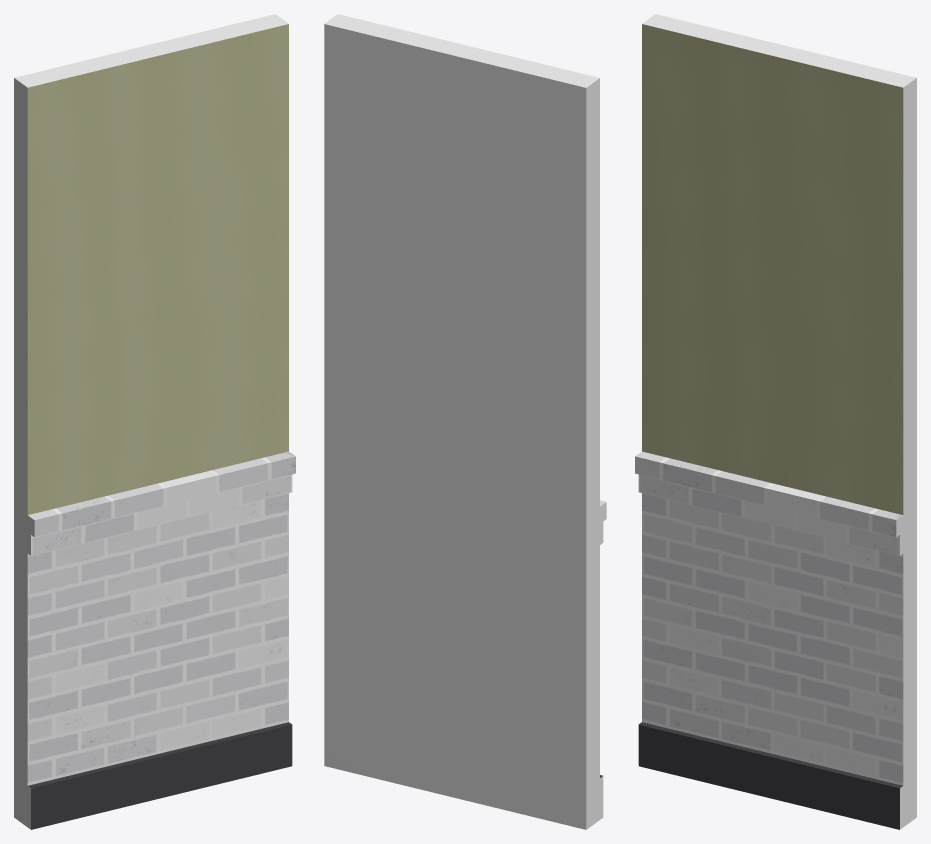
File: SM_Buildings_Wall_1x3_01.fbx
3 renders of one model, left to right at view 1: azimuth 30°, elevation 25°; view 2: azimuth 150°, elevation 25°; view 3: azimuth 330°, elevation 25°, orthographic.
Parts seen in each view (by area): view 1: SM_Buildings_Wall_1x3_01; view 2: SM_Buildings_Wall_1x3_01; view 3: SM_Buildings_Wall_1x3_01.
Part boxes in pixels (left/top/right/bottom): SM_Buildings_Wall_1x3_01: left=14, top=14, right=295, bottom=829; SM_Buildings_Wall_1x3_01: left=324, top=14, right=606, bottom=829; SM_Buildings_Wall_1x3_01: left=635, top=14, right=916, bottom=829.
Bounding box in the file's own units: 111 × 300 × 15.
1 material, 1 textured.
